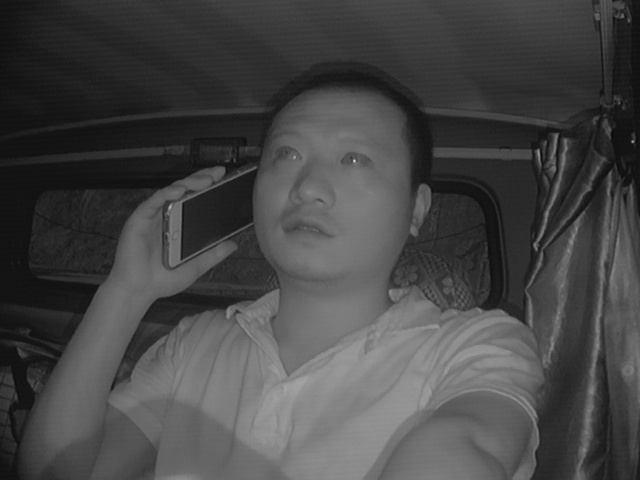hand: (120, 170, 241, 293)
